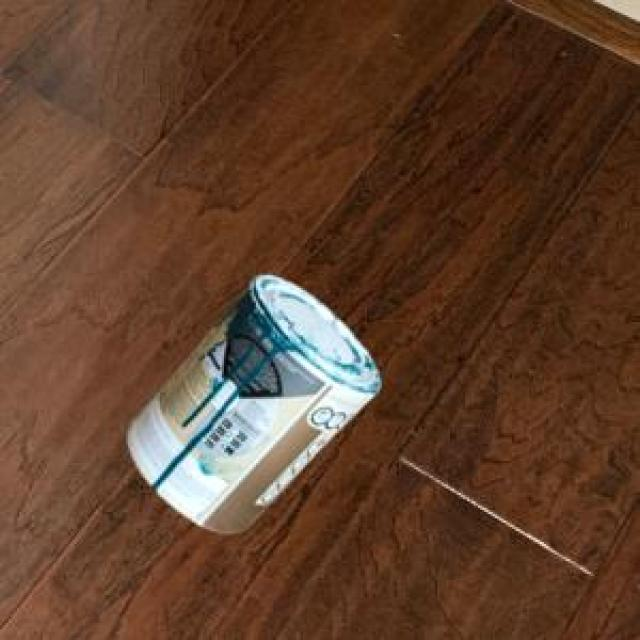logam: (123, 272, 377, 530)
